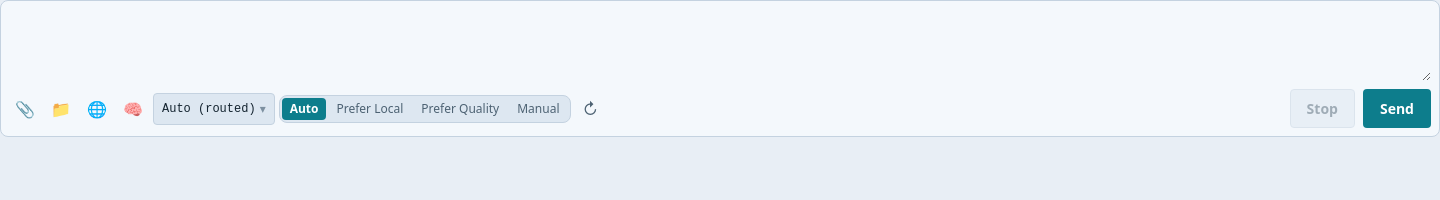
chat surface › Composer shows a notice and does NOT attach an image for a non-vision model
Click the button named "Attach file": (25, 108) [9, 92, 41, 124]
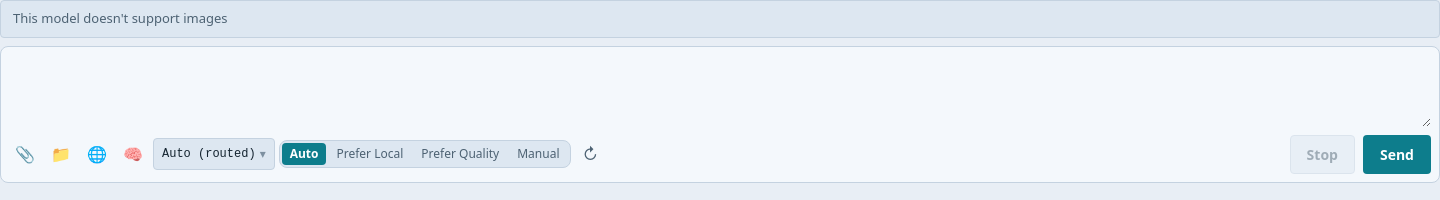
Now the message with test id "composer-notice" reads "This model doesn't support images", box [13, 9, 228, 27]
